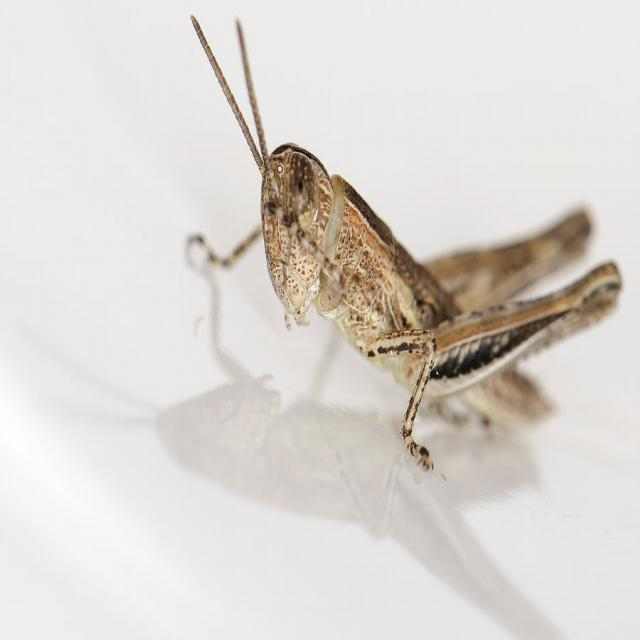ZhaMeng: (241, 123, 628, 458)
